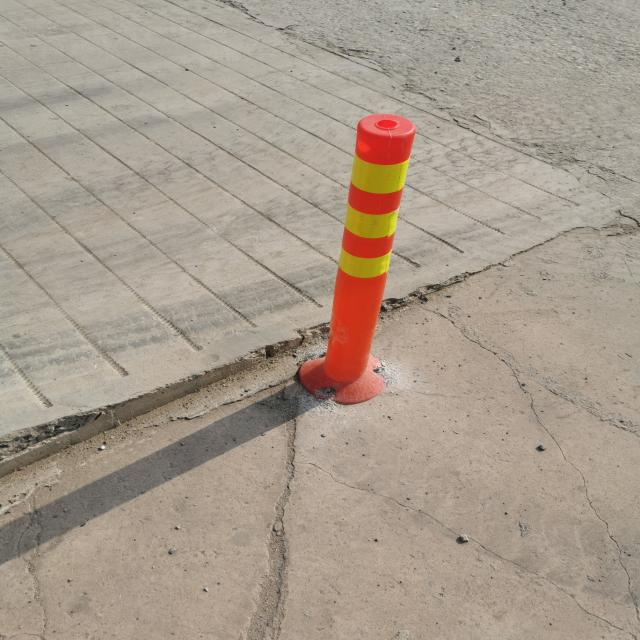warning_column: (299, 114, 421, 404)
